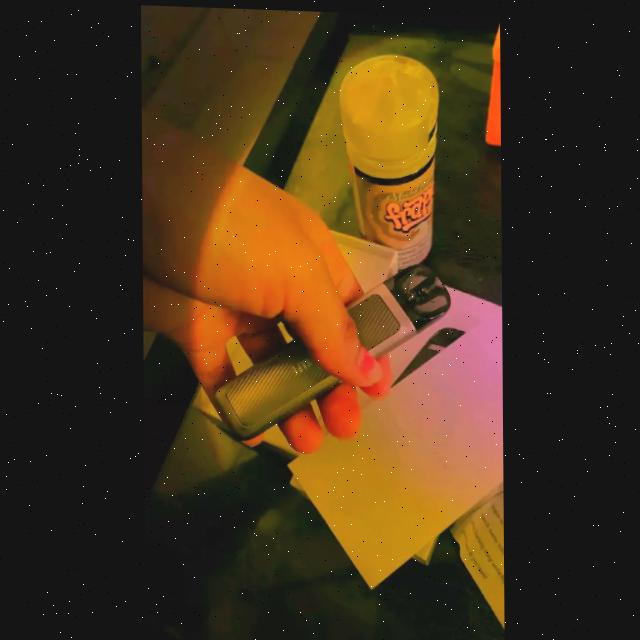vape: (206, 254, 452, 447)
